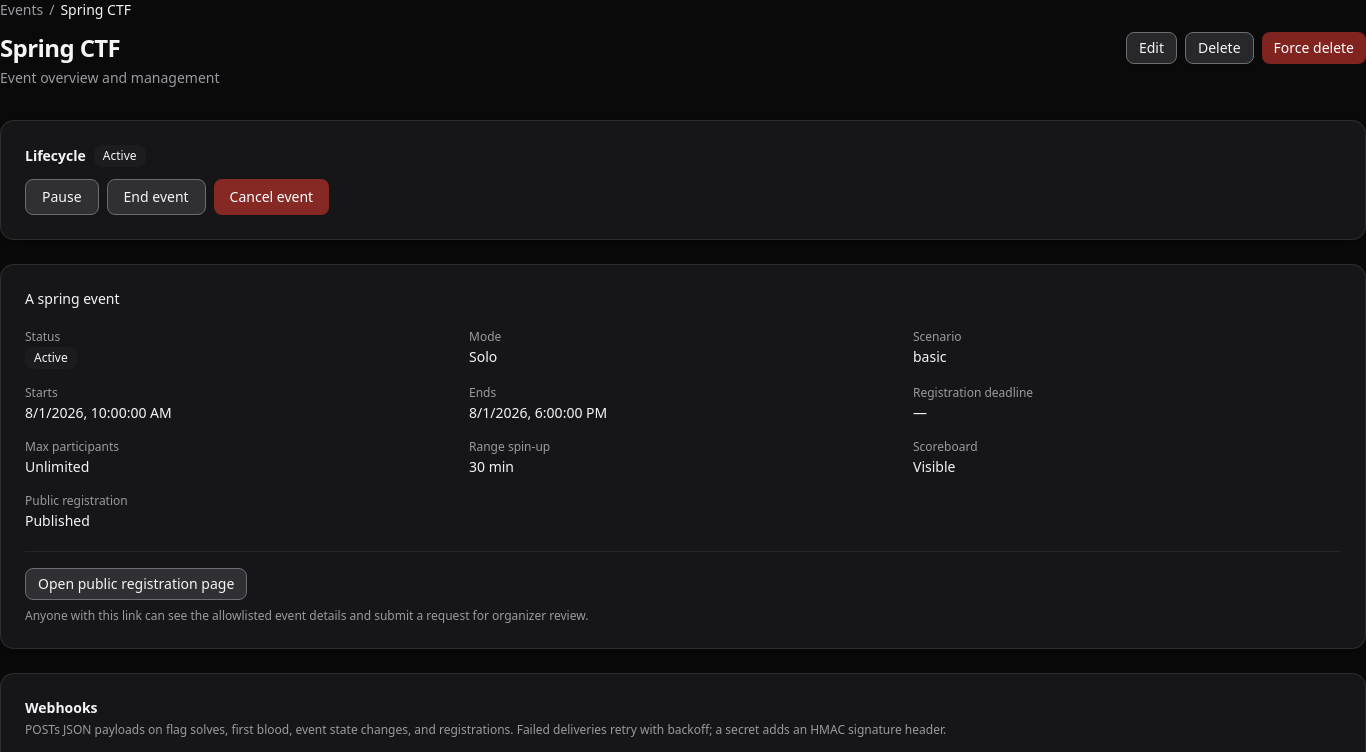
EventDetailPage › keeps force-delete disabled until the event name is typed
This screenshot has width=1366, height=752.
Expected: the heading "Spring CTF" is shown, [0, 31, 120, 64]
Click the button "Force delete": (1314, 48) [1262, 32, 1365, 64]
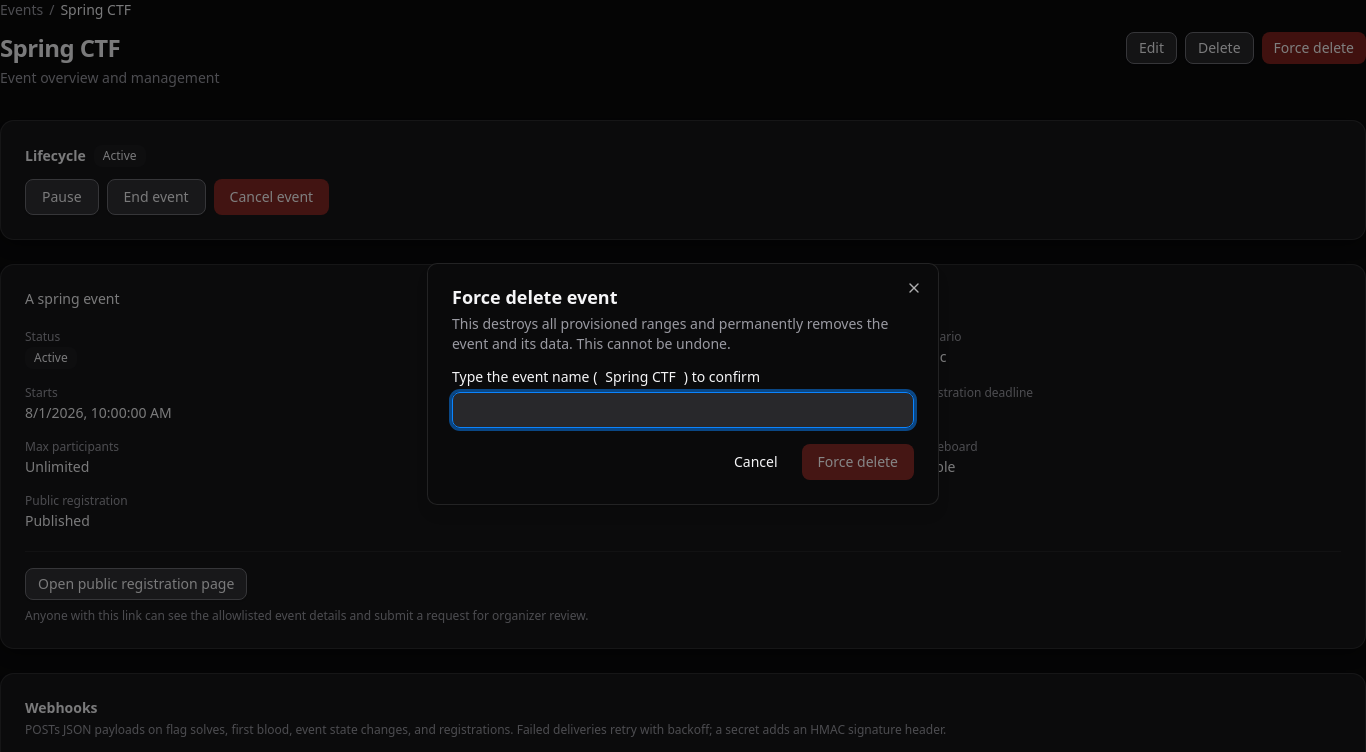
Now the text "This destroys all provisioned ranges" is shown, box [452, 314, 888, 353]
Now the button "Force delete" is disabled, box [802, 444, 914, 480]
In the field labelled "Type the event name ( Spring CTF ) to confirm": (683, 410) [452, 392, 914, 428], type "Spring CTF"
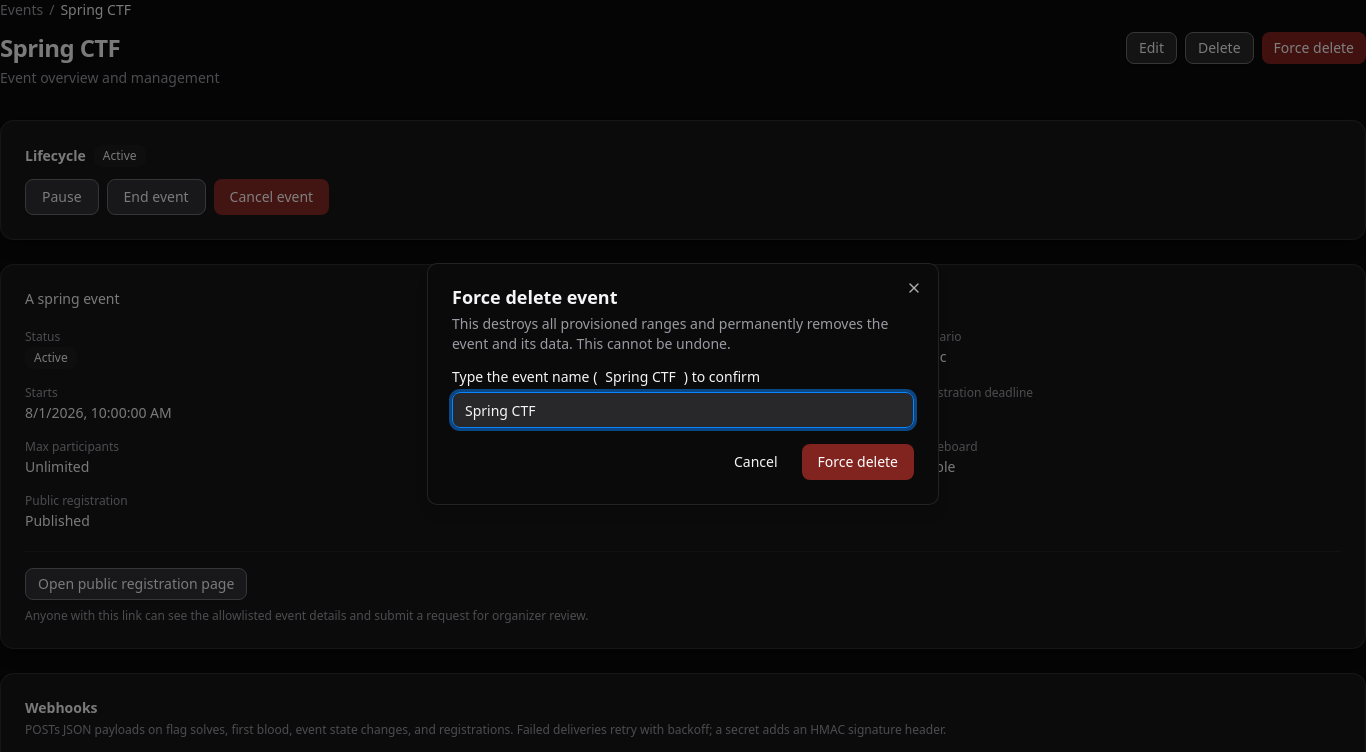
Now the button "Force delete" is enabled, box [802, 444, 914, 480]
